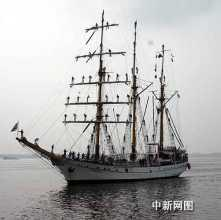fanchuan: (13, 17, 194, 179)
